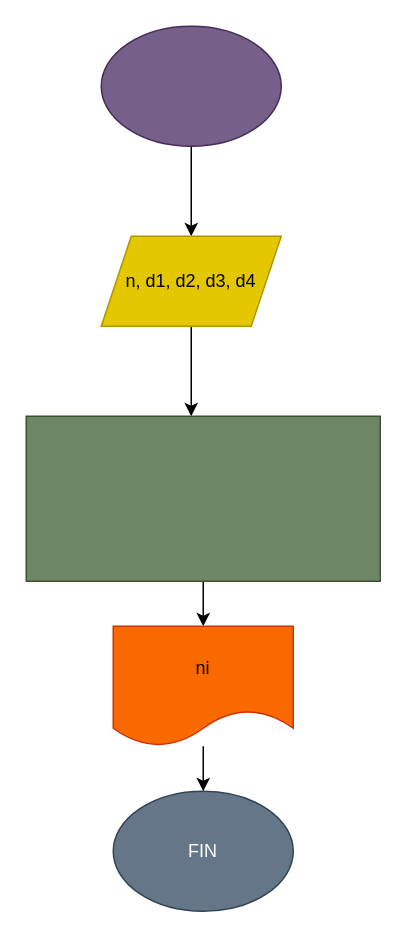
The diagram is 407 pixels wide and 938 high, and some of its shapes have lost their labels. Each missing label, with the box of its shape:
d1=(n%10)*1000 pe=n1/10 d2=(pe%10)*100: (25, 415, 380, 581)
INICIO: (100, 25, 281, 146)
